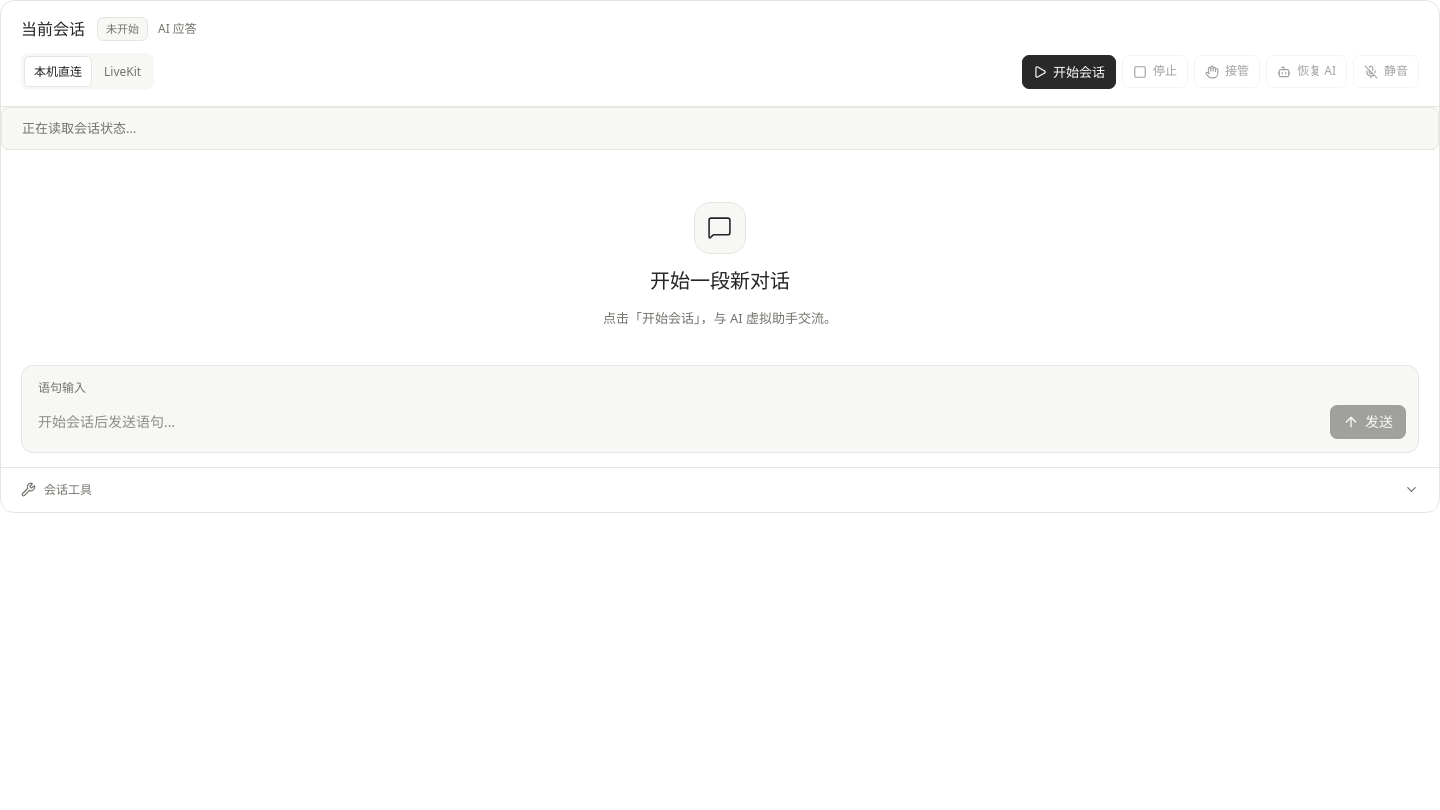
it: WorkspaceSession › keeps command buttons disabled while the session is inactive
The width and height of the screenshot is (1440, 810).
Click the heading "会话工具".
click(68, 490)  # box x1=21 y1=481 x2=1419 y2=498
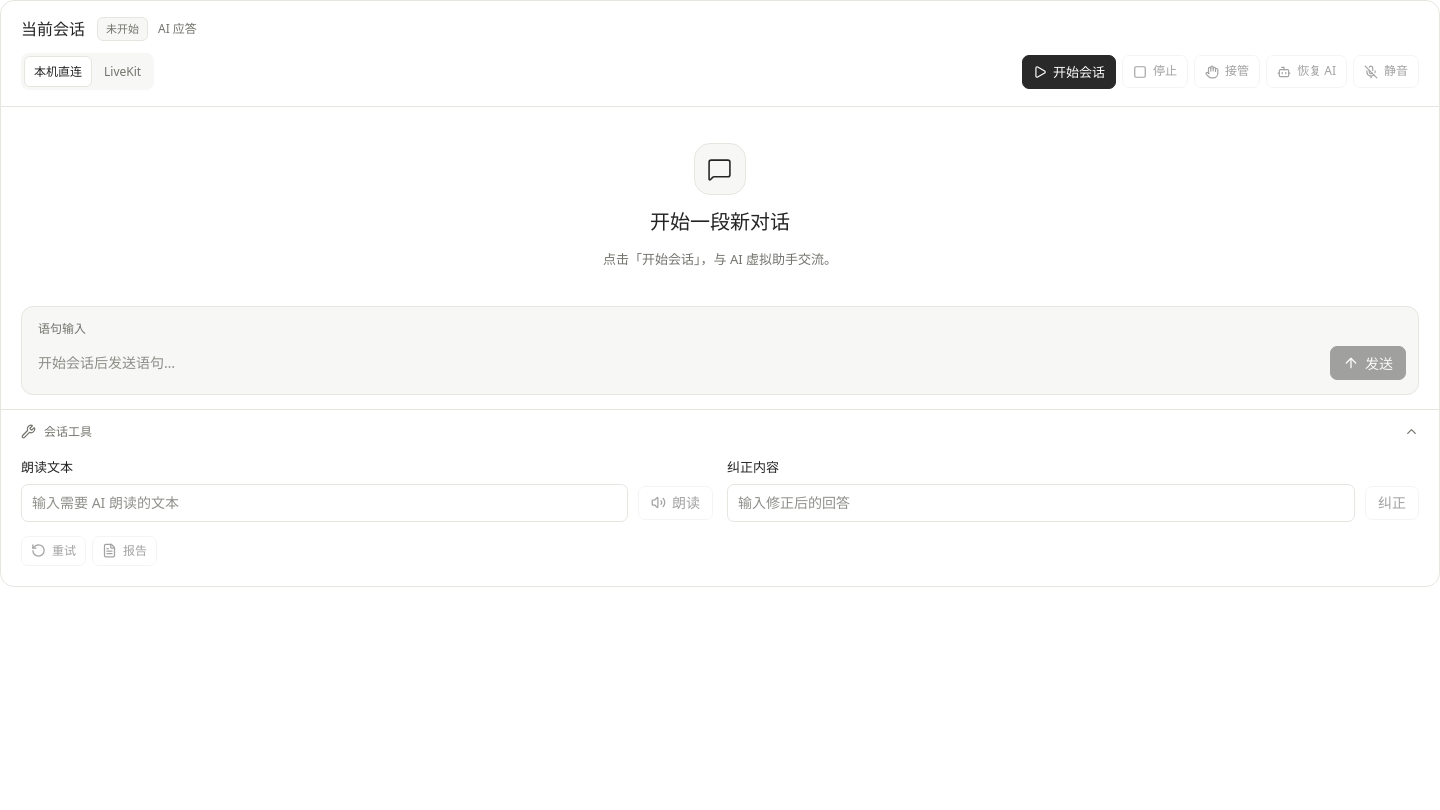
Expected: the button "朗读" is disabled, x1=638 y1=486 x2=713 y2=520
Expected: the button "重试" is disabled, x1=21 y1=536 x2=86 y2=566
Expected: the button "纠正" is disabled, x1=1365 y1=486 x2=1419 y2=520
